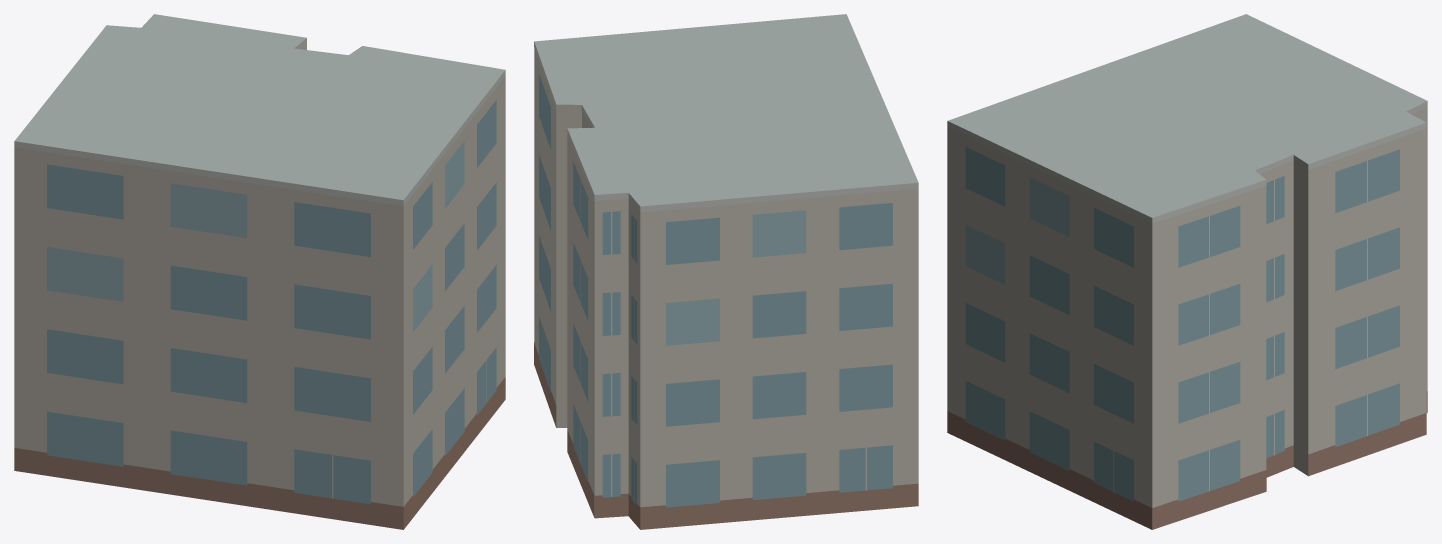
The model's file is survey-upis-32980435.glb.
3 views of the same model, side by side, from view 1: azimuth 30°, elevation 25°; view 2: azimuth 150°, elevation 25°; view 3: azimuth 270°, elevation 25° (orthographic). The views are drawn at different scales.
Parts seen in each view (by area): view 1: survey-upis-32980435.tmp; view 2: survey-upis-32980435.tmp; view 3: survey-upis-32980435.tmp.
Part boxes in pixels (box(x1,y1,x2,y2)): survey-upis-32980435.tmp: box(14, 14, 505, 529); survey-upis-32980435.tmp: box(534, 14, 918, 529); survey-upis-32980435.tmp: box(947, 14, 1427, 529).
Bounding box in the file's own units: 18.65 × 13.3 × 18.56.
